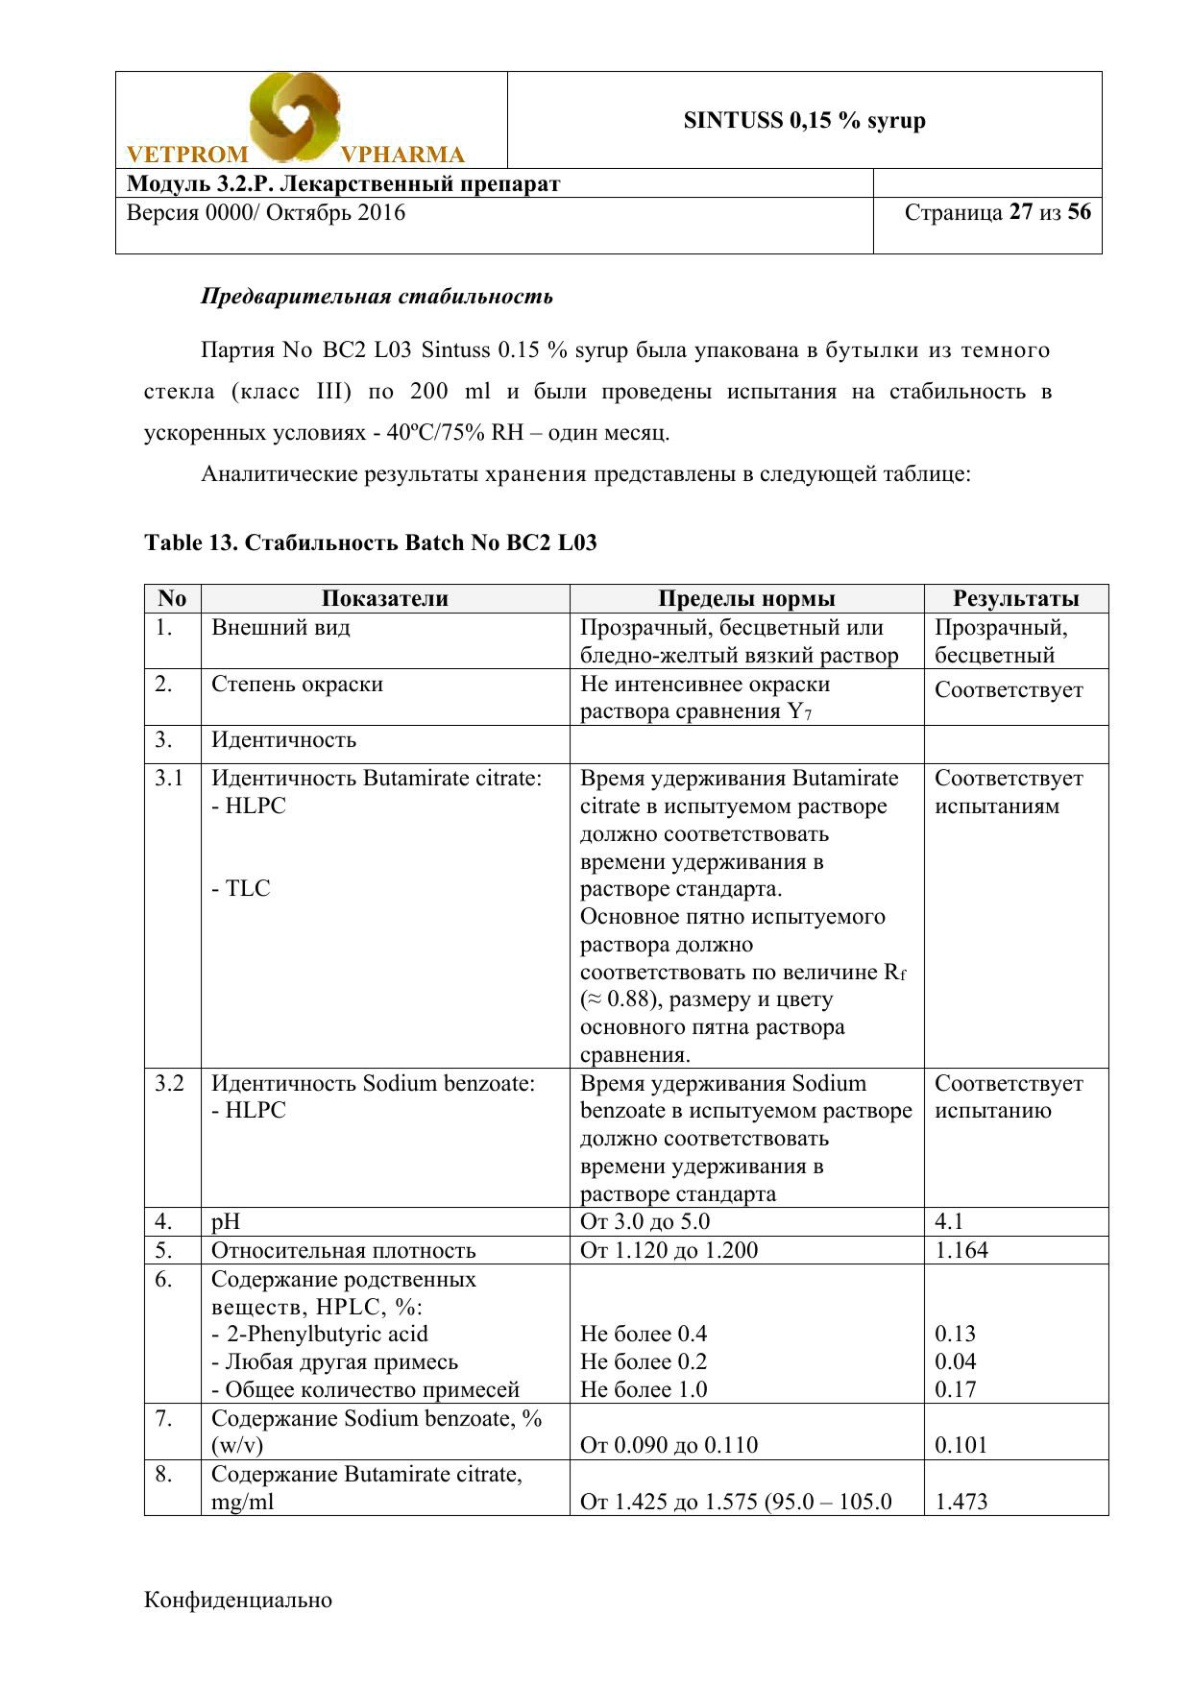full_lined: (142, 583, 1111, 1517)
merged_cells: (114, 68, 1104, 255)
